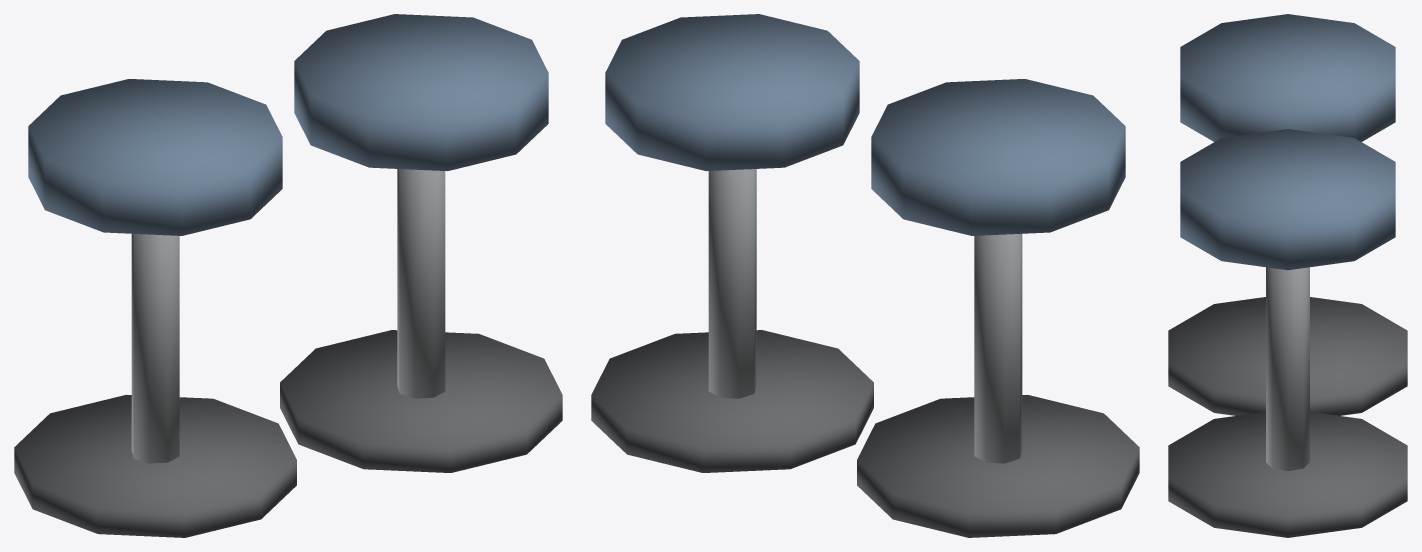
The model's file is lab_stool__cluster.glb.
3 views of the same model, side by side, from view 1: azimuth 30°, elevation 25°; view 2: azimuth 150°, elevation 25°; view 3: azimuth 270°, elevation 25° (orthographic). The views are drawn at different scales.
Parts seen in each view (by area): view 1: world; view 2: world; view 3: world.
Boxes of the visible parts, left/top/right/bottom form: world: left=14, top=14, right=562, bottom=537; world: left=591, top=14, right=1139, bottom=537; world: left=1168, top=14, right=1407, bottom=537.
Size of the model in its own units: 0.832 by 0.54 by 0.3804.
